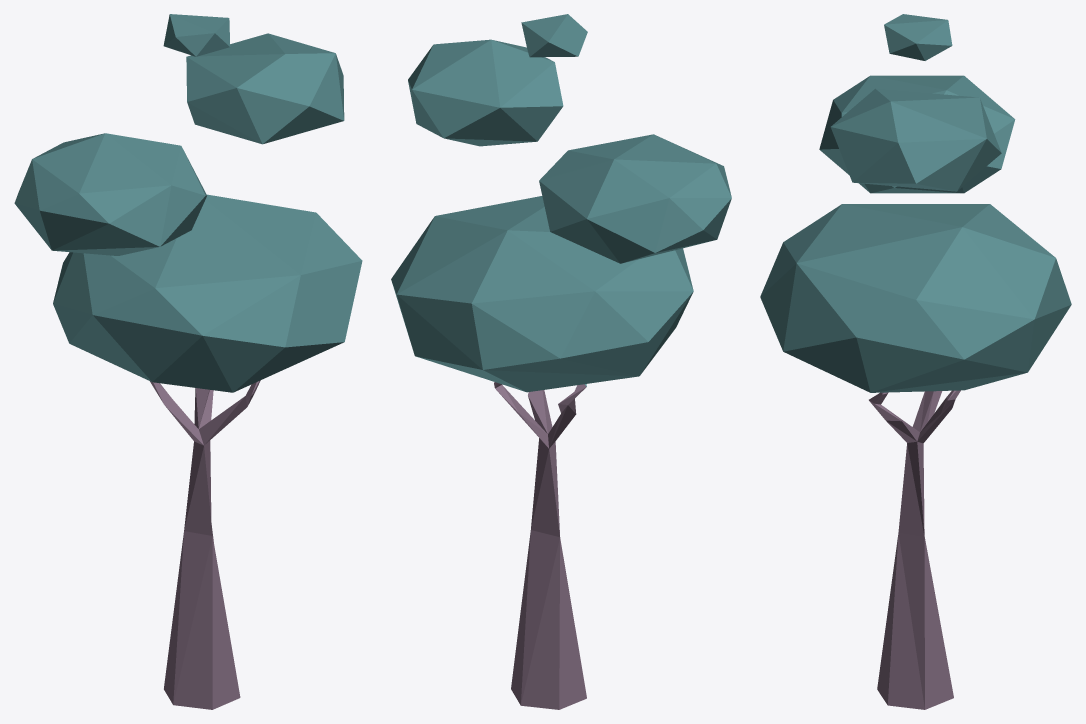
The model's file is tree.dae.
The picture shows the model from 3 angles, left to right: view 1: azimuth 30°, elevation 25°; view 2: azimuth 150°, elevation 25°; view 3: azimuth 270°, elevation 25°; orthographic projection.
Visible parts, largest first — view 1: Cylinder; view 2: Cylinder; view 3: Cylinder.
Part boxes in pixels (bbox=[...]): Cylinder: bbox=[14, 14, 362, 709]; Cylinder: bbox=[391, 14, 731, 709]; Cylinder: bbox=[760, 14, 1071, 709].
Bounding box in the file's own units: 3.96 × 3.42 × 8.08.
